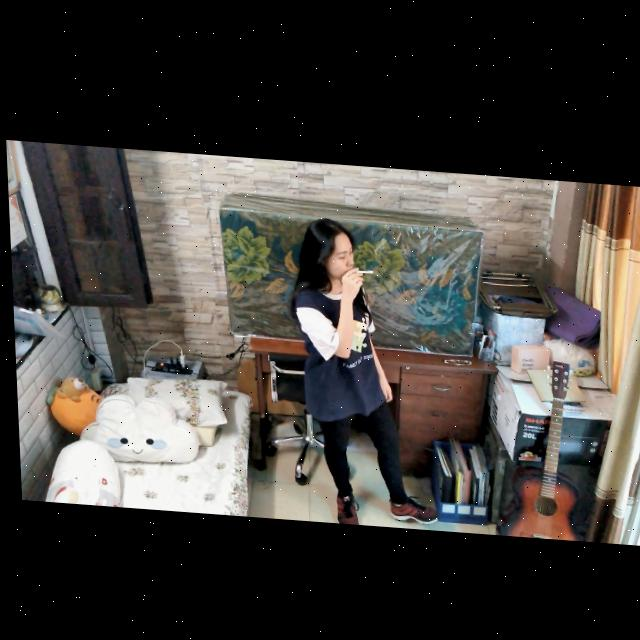cigarette: (354, 264, 372, 269)
